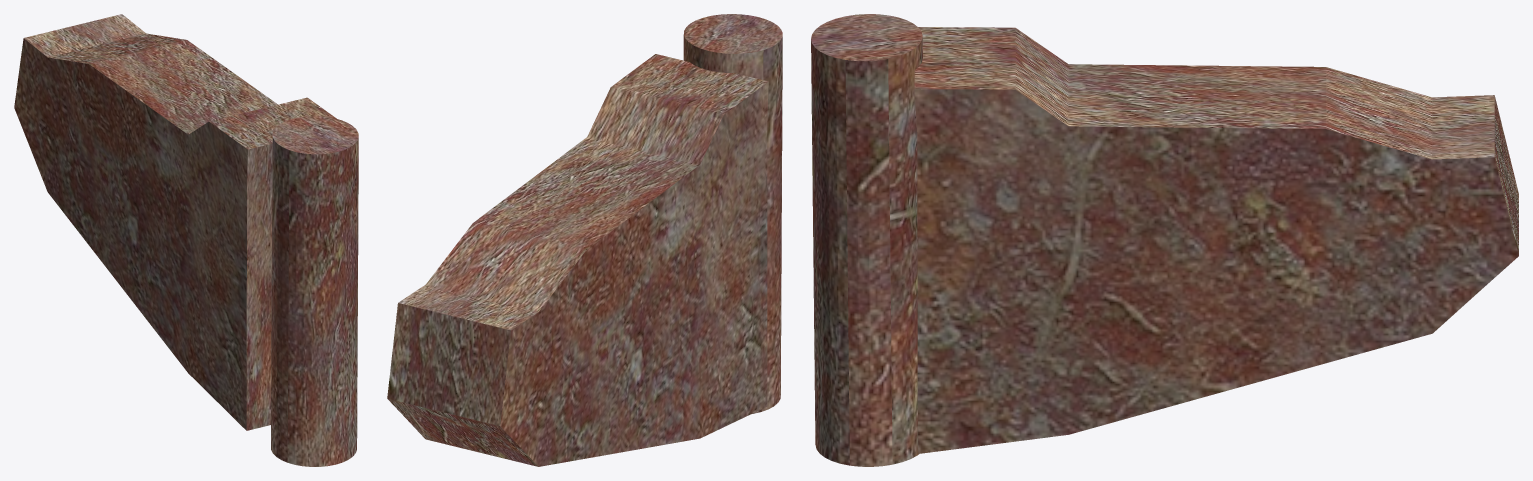
File: Brazo3.obj
3 views of the same model, side by side, from view 1: azimuth 30°, elevation 25°; view 2: azimuth 150°, elevation 25°; view 3: azimuth 270°, elevation 25° (orthographic). The views are drawn at different scales.
Parts seen in each view (by area): view 1: Brazo3; view 2: Brazo3; view 3: Brazo3.
Boxes of the visible parts, x1,y1,x2,y2 form: Brazo3: [14, 14, 358, 466]; Brazo3: [387, 14, 782, 466]; Brazo3: [811, 14, 1518, 466].
Size of the model in its own units: 0.5587 by 1.71 by 2.69.
